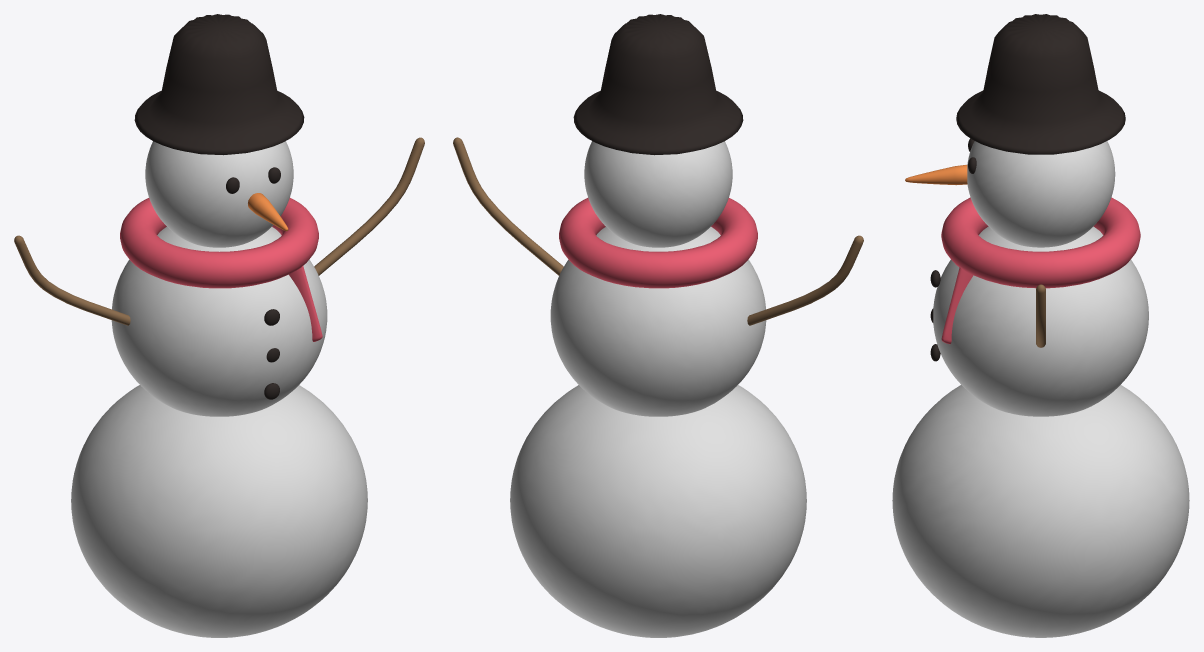
The model's file is deco_muneco_nieve.glb.
3 renders of one model, left to right at view 1: azimuth 30°, elevation 25°; view 2: azimuth 150°, elevation 25°; view 3: azimuth 270°, elevation 25°, orthographic.
Parts seen in each view (by area): view 1: bola abajo.001, bola medio.001, sombrero nieve.001, bola cabeza.001, bufanda nieve.001, brazo nieve 1.001, brazo nieve -1.001, punta bufanda.001, zanahoria.001; view 2: bola abajo.001, bola medio.001, sombrero nieve.001, bola cabeza.001, bufanda nieve.001, brazo nieve 1.001, brazo nieve -1.001; view 3: bola abajo.001, bola medio.001, sombrero nieve.001, bola cabeza.001, bufanda nieve.001, zanahoria.001, punta bufanda.001, brazo nieve 1.001.
Boxes of the visible parts, x1,y1,x2,y2 form: bola abajo.001: (71,385,367,637); bola medio.001: (111,227,327,416); sombrero nieve.001: (134,14,304,155); bola cabeza.001: (145,141,293,247); bufanda nieve.001: (120,198,318,288); brazo nieve 1.001: (314,137,424,275); brazo nieve -1.001: (14,235,130,325); punta bufanda.001: (289,265,322,341); zanahoria.001: (248,193,288,231); bola abajo.001: (510,385,806,637); bola medio.001: (550,227,766,416); sombrero nieve.001: (573,14,743,155); bola cabeza.001: (584,141,732,247); bufanda nieve.001: (559,198,757,288); brazo nieve 1.001: (453,137,563,275); brazo nieve -1.001: (747,235,863,325); bola abajo.001: (892,385,1189,637); bola medio.001: (933,226,1148,416); sombrero nieve.001: (956,14,1125,154); bola cabeza.001: (967,141,1115,247); bufanda nieve.001: (941,197,1140,288); zanahoria.001: (905,164,967,185); punta bufanda.001: (941,267,973,344); brazo nieve 1.001: (1036,284,1045,347).
Size of the model in its own units: 0.6956 by 0.9687 by 0.4371.
